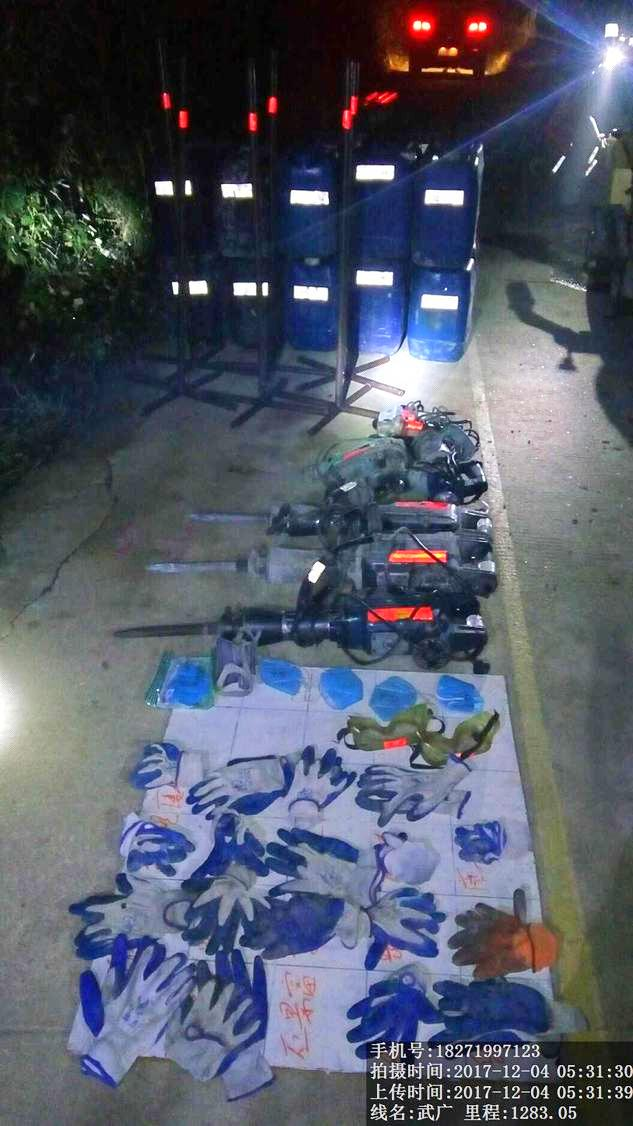DZ: (124, 584, 501, 666), (123, 526, 501, 586)
SLT: (405, 263, 480, 364)
